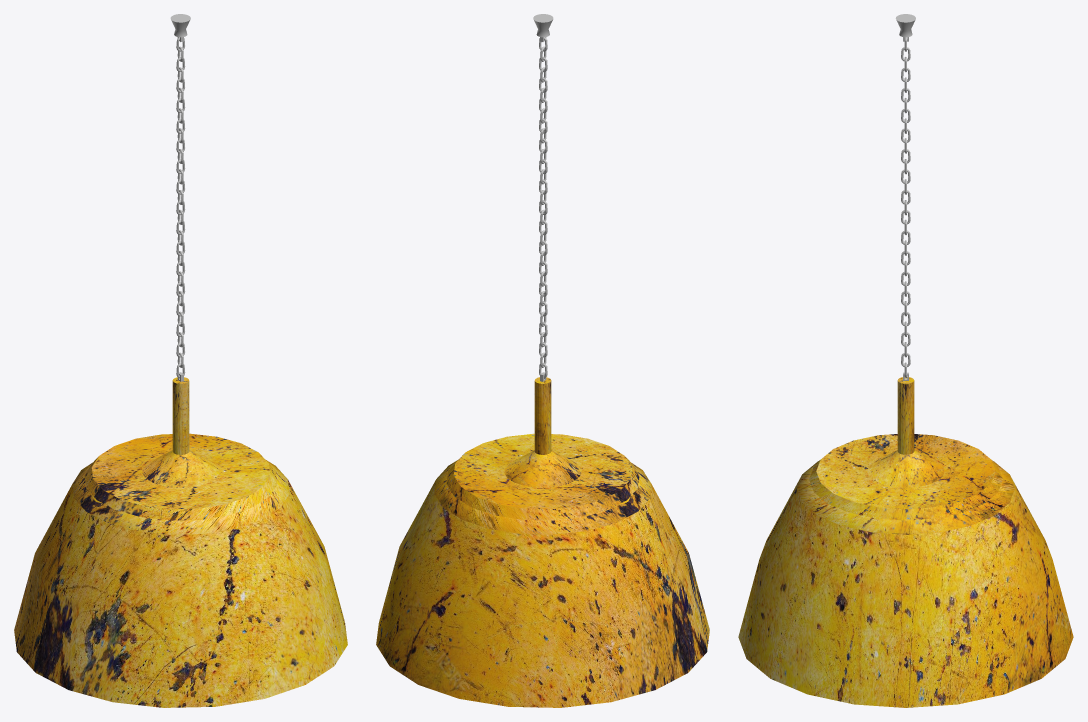
The model's file is Lâmpada_Teto.fbx.
3 views of the same model, side by side, from view 1: azimuth 30°, elevation 25°; view 2: azimuth 150°, elevation 25°; view 3: azimuth 270°, elevation 25° (orthographic).
Parts seen in each view (by area): view 1: pCylinder1, pTorus11, pTorus12, pTorus9; view 2: pCylinder1, pTorus12, pTorus11, pTorus9; view 3: pCylinder1.
Boxes of the visible parts, x1,y1,x2,y2 form: pCylinder1: (14, 377, 347, 707); pTorus11: (176, 209, 185, 296); pTorus12: (176, 128, 185, 214); pTorus9: (176, 291, 185, 377); pCylinder1: (376, 377, 709, 707); pTorus12: (539, 128, 547, 214); pTorus11: (539, 209, 547, 296); pTorus9: (539, 291, 547, 377); pCylinder1: (738, 377, 1073, 707).
Size of the model in its own units: 3.34 by 7.14 by 3.34.
